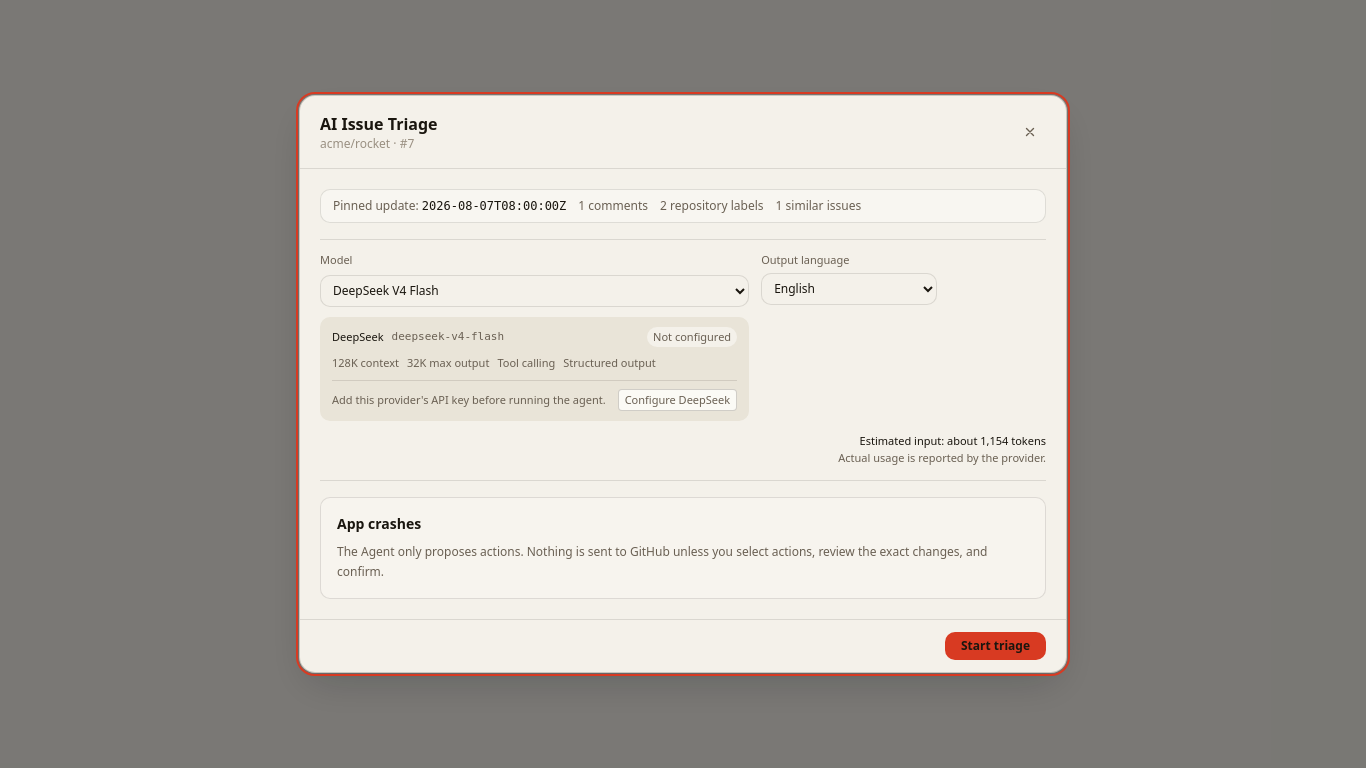
Test: IssueTriageWorkspace › shows the diagnostic id returned with a triage failure
Click the button "Start triage" at [995, 646], box [945,632,1046,660]
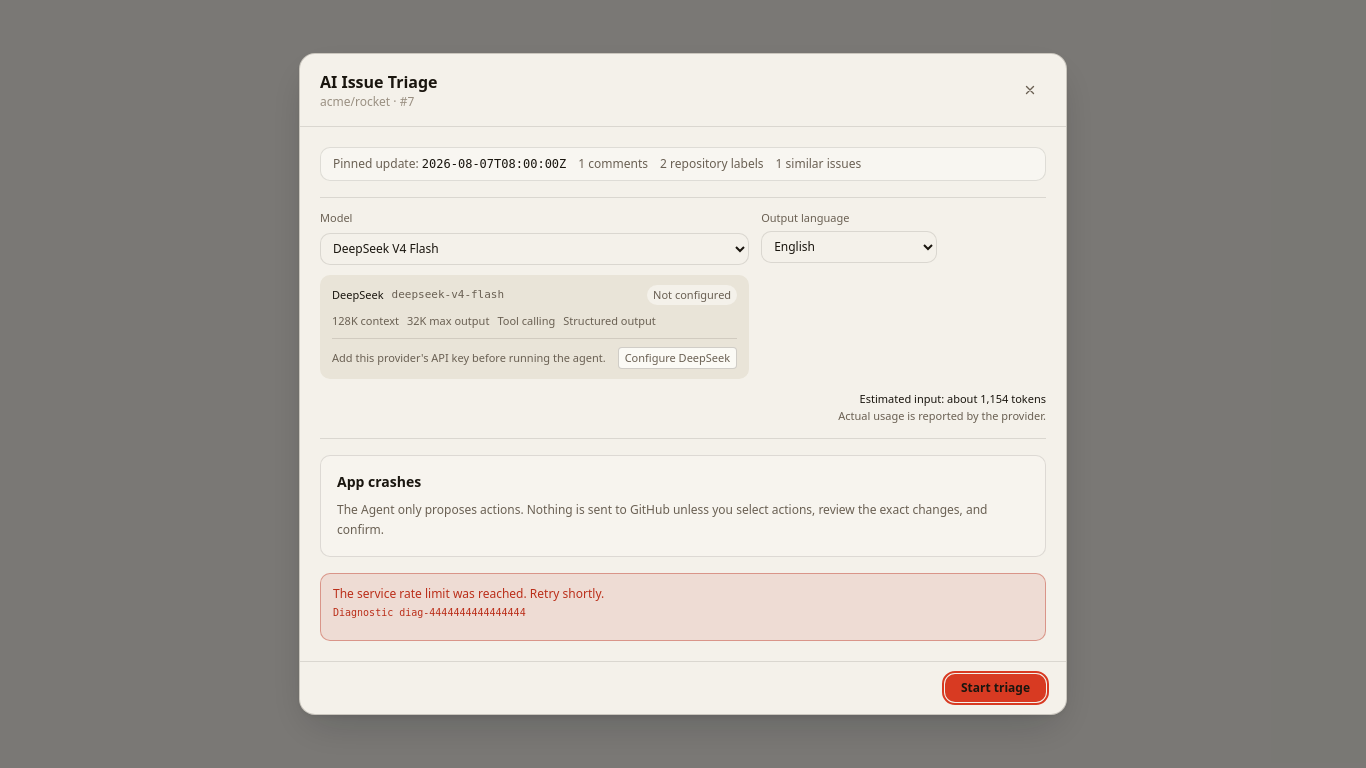
Now the text "Diagnostic diag-4444444444444444" is shown, box [333,607,526,618]
